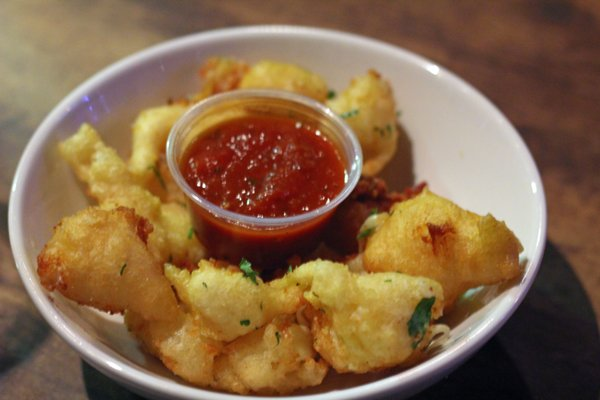sushi: (8, 22, 541, 391), (163, 86, 364, 261)
